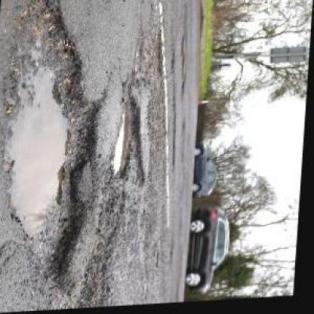Hueco: (0, 0, 109, 284), (111, 96, 154, 190), (179, 38, 192, 98), (154, 32, 168, 76)
